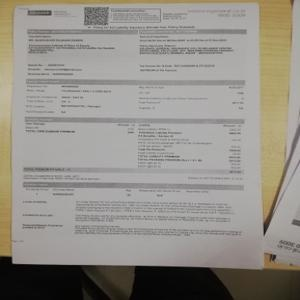image: (25, 9, 53, 16)
table: (20, 181, 246, 237), (25, 115, 247, 170), (25, 27, 247, 77), (26, 77, 247, 119)
